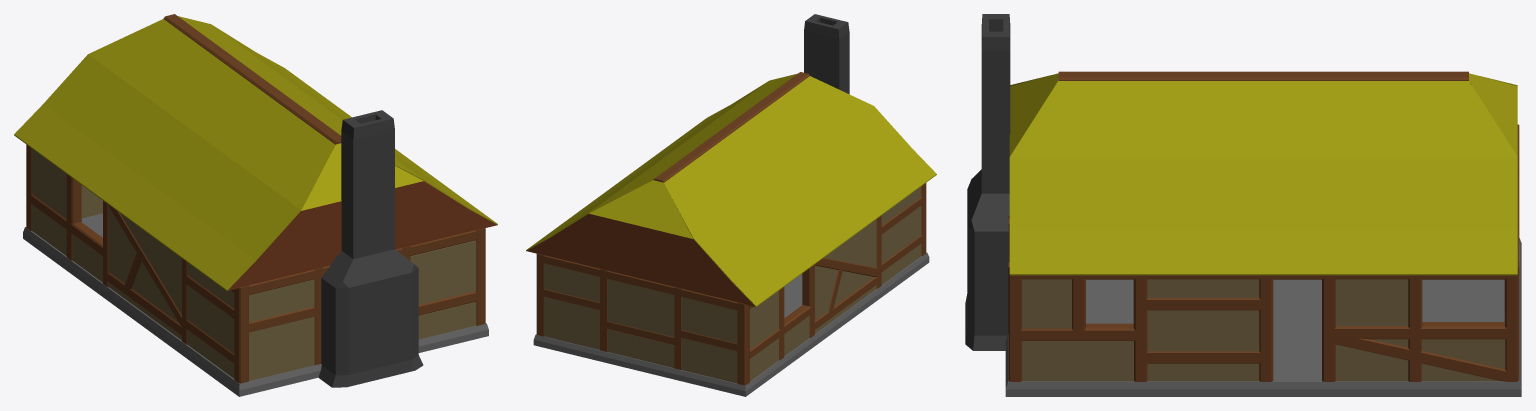
Rendered from House_Longer.fbx.
The picture shows the model from 3 angles, left to right: view 1: azimuth 30°, elevation 25°; view 2: azimuth 150°, elevation 25°; view 3: azimuth 270°, elevation 25°; orthographic projection. The views are drawn at different scales.
Visible parts, largest first — view 1: Cube.004, Cube, Cube.002, Base, Cube.003, Cube.014, Cube.024, Cube.027, BalkenF.040, Cube.026, Cube.008, Cube.030 (+22 smaller); view 2: Cube.004, Cube.001, Base, Cube.003, Cube, Cube.020, Cube.029, Cube.014, Cube.025, Cube.022, Cube.023, BalkenF.040 (+26 smaller); view 3: Cube.003, Base, Cube, Cube.013, Cube.011, Cube.007, BalkenF.040, Cube.012, BalkenF.015, Cube.006, BalkenF.030, Cube.010 (+16 smaller).
Boxes of the visible parts, x1,y1,x2,y2 form: Cube.004: [14, 19, 335, 290]; Cube: [318, 110, 423, 387]; Cube.002: [227, 181, 497, 290]; Base: [23, 213, 488, 396]; Cube.003: [178, 16, 497, 224]; Cube.014: [109, 207, 181, 322]; Cube.024: [249, 316, 314, 380]; Cube.027: [410, 240, 476, 304]; BalkenF.040: [163, 14, 341, 144]; Cube.026: [249, 279, 314, 322]; Cube.008: [32, 205, 102, 282]; Cube.030: [301, 143, 423, 210]; Cube.004: [664, 76, 936, 306]; Cube.001: [526, 213, 755, 306]; Base: [533, 252, 929, 396]; Cube.003: [526, 73, 797, 250]; Cube: [804, 14, 849, 94]; Cube.020: [607, 279, 674, 337]; Cube.029: [589, 180, 692, 238]; Cube.014: [815, 219, 876, 320]; Cube.025: [544, 297, 599, 349]; Cube.022: [681, 297, 737, 343]; Cube.023: [681, 338, 737, 383]; BalkenF.040: [653, 72, 809, 182]; Cube.003: [1009, 81, 1517, 275]; Base: [1005, 238, 1521, 396]; Cube: [965, 14, 1010, 350]; Cube.013: [1336, 339, 1505, 381]; Cube.011: [1147, 310, 1259, 351]; Cube.007: [1022, 341, 1133, 381]; BalkenF.040: [1058, 71, 1468, 80]; Cube.012: [1336, 279, 1408, 326]; BalkenF.015: [1334, 322, 1506, 339]; Cube.006: [1022, 279, 1071, 328]; BalkenF.030: [1332, 333, 1508, 381]; Cube.010: [1147, 279, 1259, 297].
Size of the model in its own units: 651 by 575 by 971.
